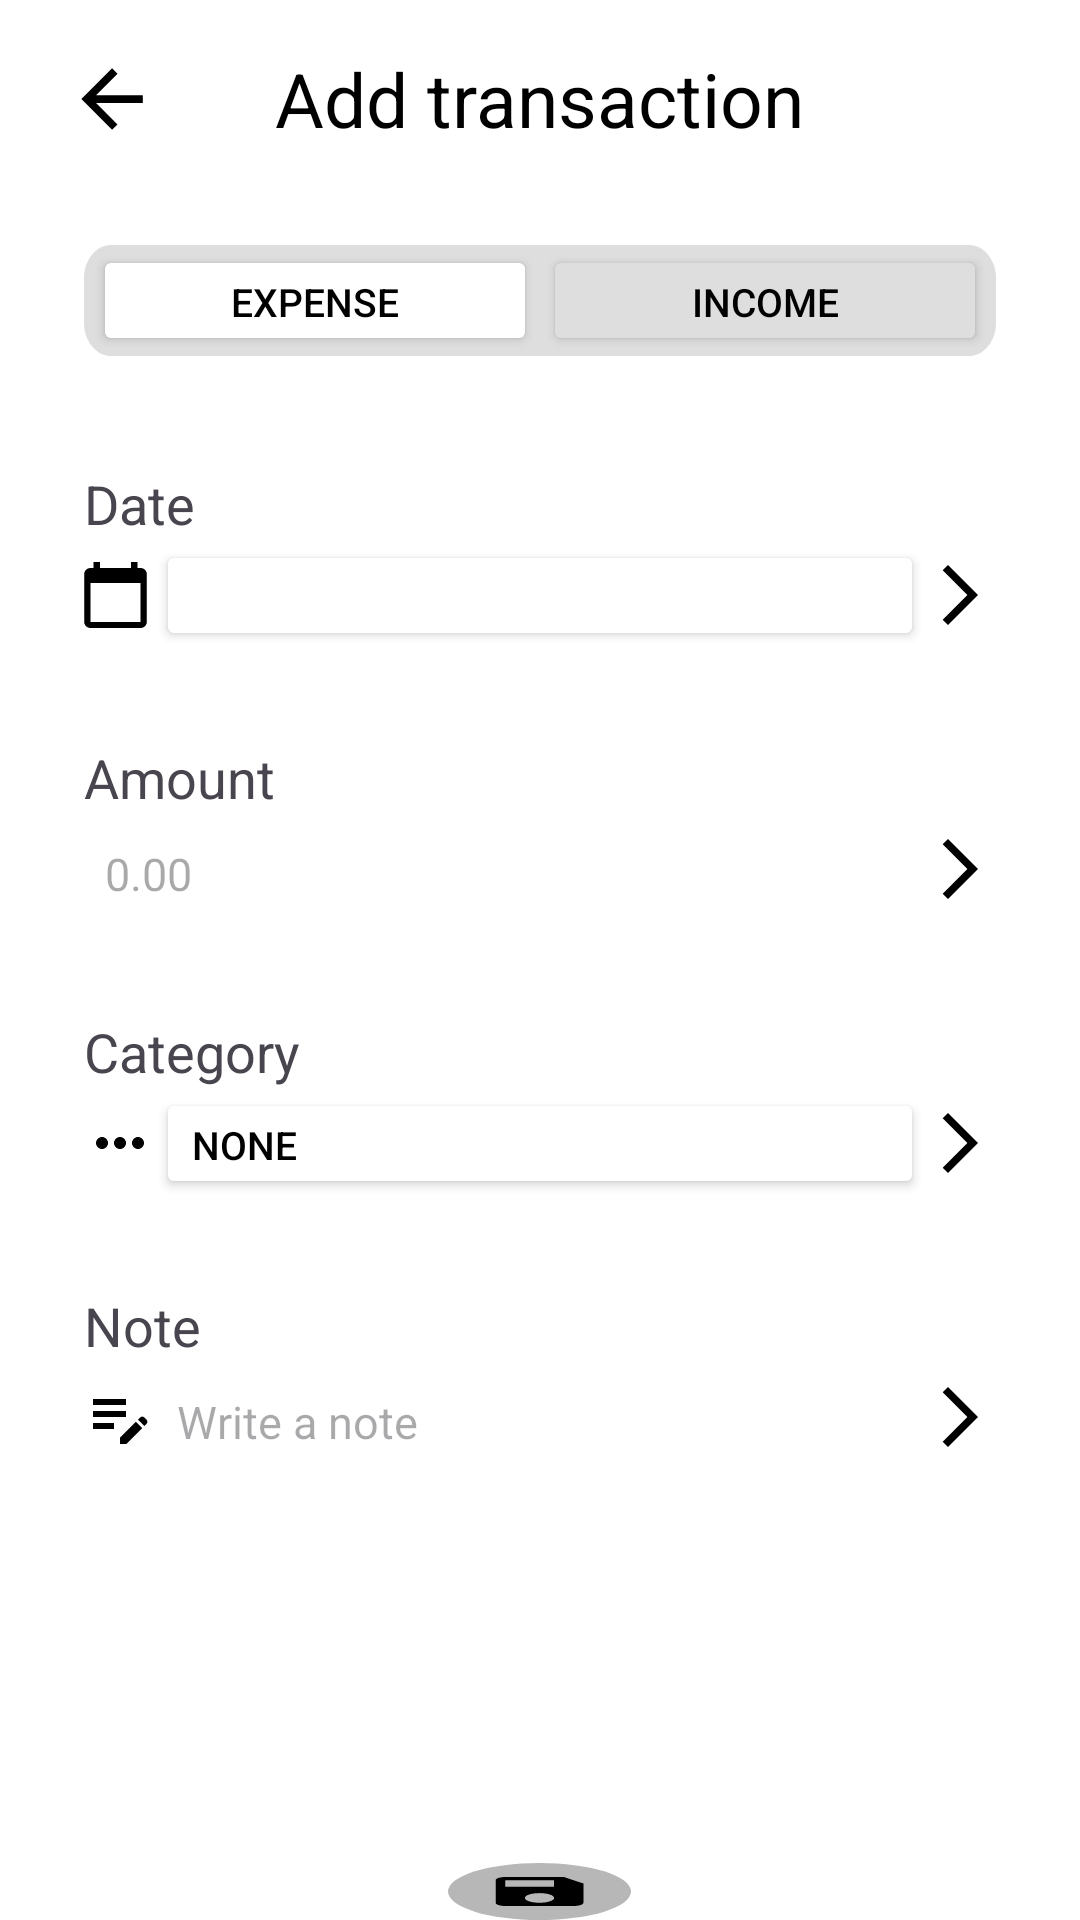

Icon click points for this 1080 x 1920 phone screenshot, format (x=x, y=y):
arrow back: (x=112, y=99)
arrow forward: (x=960, y=595), (x=960, y=869), (x=960, y=1143), (x=960, y=1417)
